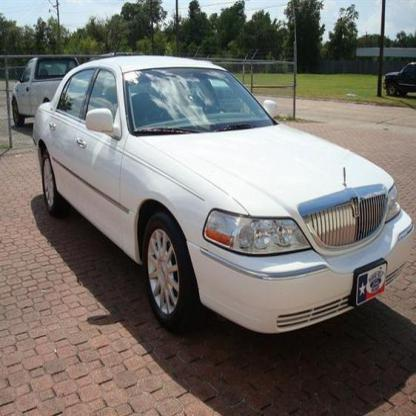Vehicle: (30, 52, 415, 342)
